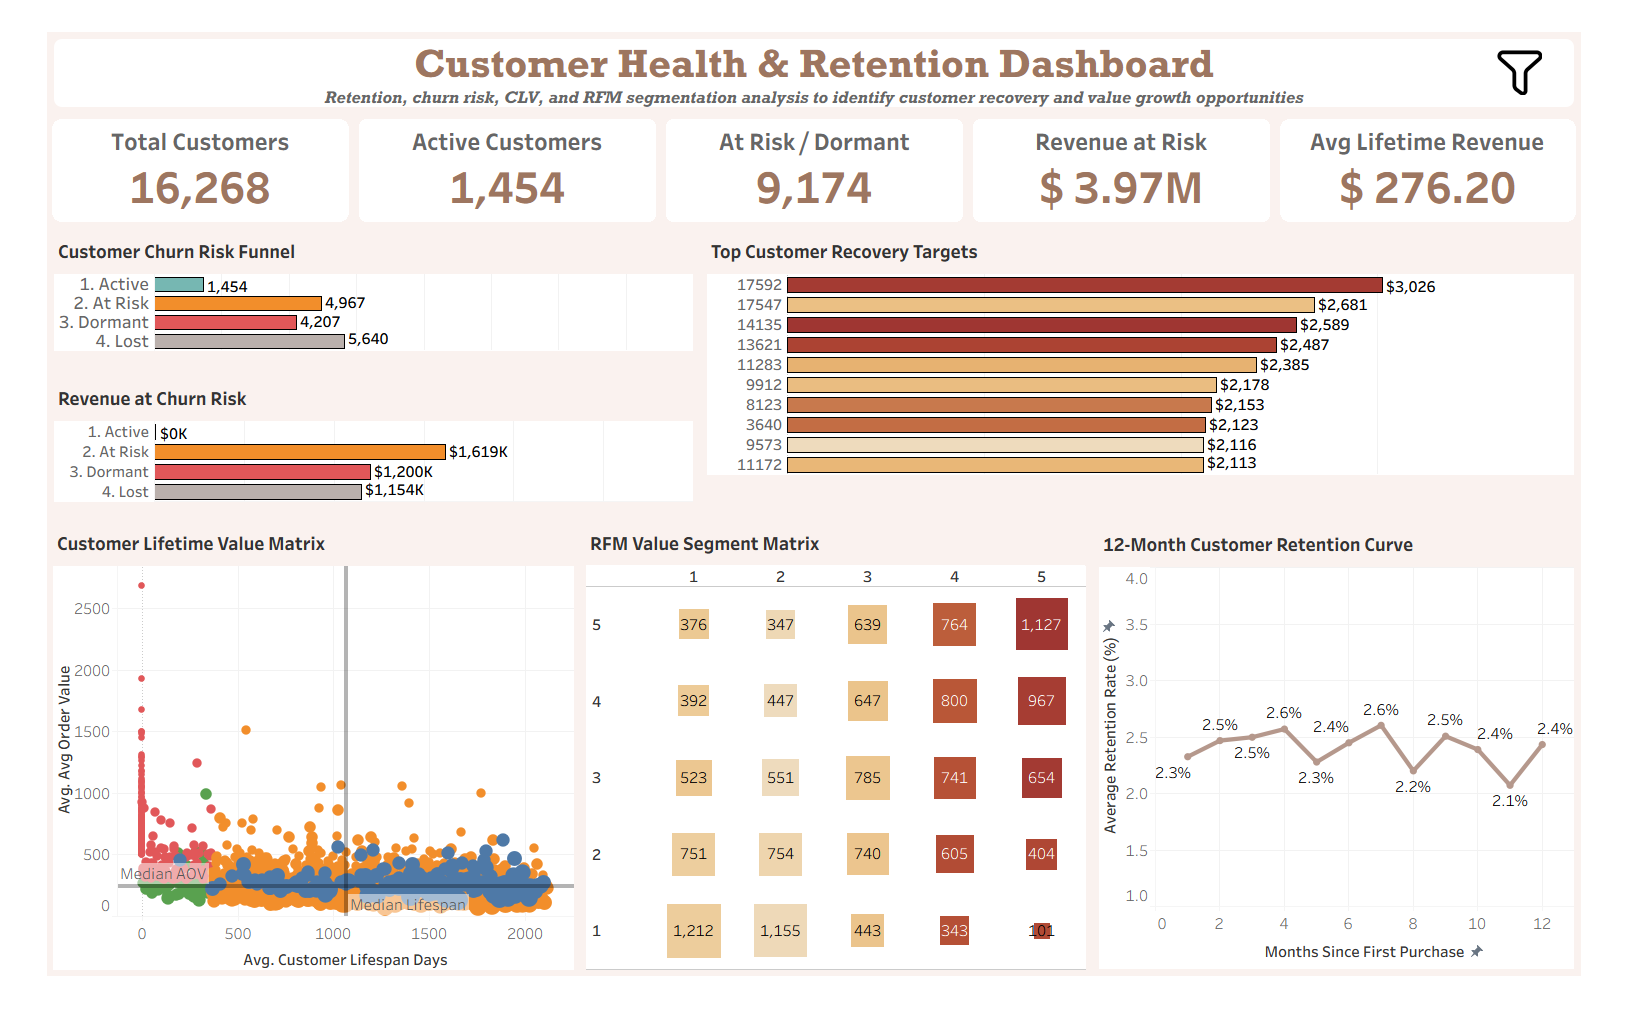

The dashboard page shown, as its layout file describes it:
{"tool":"tableau","page":{"name":"Customer Health & Retention Dashboard","canvas":[1550,960],"ordinal":1},"visuals":[{"type":"text","box":[8,8,1534,82]},{"type":"dashboard-object","box":[1448,26,64,45]},{"type":"worksheet","title":"KPI - Total Customers","mark":"Automatic","box":[8,90,307,113]},{"type":"worksheet","title":"KPI - Active Customers","mark":"Automatic","box":[315,90,307,113]},{"type":"worksheet","title":"KPI - Risk Customers","mark":"Automatic","box":[622,90,307,113]},{"type":"worksheet","title":"KPI - Revenue at Risk","mark":"Automatic","box":[929,90,307,113]},{"type":"worksheet","title":"KPI - Avg Lifetime Revenue","mark":"Automatic","box":[1236,90,306,113]},{"type":"text","box":[1348,94,198,59]},{"type":"blank","box":[1348,153,198,32]},{"type":"parameter","param":"[Parameters].[Parameter 1]","box":[1348,185,198,87]},{"type":"worksheet","title":"Customer Churn Risk Funnel","mark":"Bar","rows":["Calculation_1224312647749662"],"cols":["customer_id"],"box":[8,203,653,147]},{"type":"worksheet","title":"Top Customer Recovery Targets","mark":"Bar","rows":["customer_id"],"cols":["total_spent"],"box":[661,203,881,293]},{"type":"text","box":[1348,272,198,134]},{"type":"worksheet","title":"Revenue at Churn Risk","mark":"Bar","rows":["Calculation_1224312647749662"],"cols":["Calculation_1224312656416800"],"box":[8,350,653,138]},{"type":"blank","box":[1348,406,198,73]},{"type":"parameter","param":"[Parameters].[Parameter 3]","box":[1348,479,198,89]},{"type":"worksheet","title":"Customer Lifetime Value Matrix","mark":"Circle","rows":["avg_order_value"],"cols":["customer_lifespan_days"],"box":[8,496,533,456]},{"type":"worksheet","title":"RFM Value Segment Matrix","mark":"Square","rows":["Calculation_1224312737742887"],"cols":["Calculation_1224312737644582"],"box":[541,496,512,456]},{"type":"worksheet","title":"Customer Retention Curve","mark":"Line","rows":["retention_rate_pct"],"cols":["month_number"],"box":[1053,496,489,456]},{"type":"text","box":[1348,568,198,71]},{"type":"blank","box":[1348,639,198,88]},{"type":"parameter","param":"[Parameters].[Parameter 2]","box":[1348,727,198,85]},{"type":"text","box":[1348,812,198,71]}]}

Visuals, with their boxes in screenshot pixels (x1, y1, x2, y2), scaled from the page's 1550x960 canvas onto the 1633x1011 screenshot:
text: (left=8, top=8, right=1625, bottom=95)
dashboard-object: (left=1526, top=27, right=1593, bottom=75)
"KPI - Total Customers" worksheet: (left=8, top=95, right=332, bottom=214)
"KPI - Active Customers" worksheet: (left=332, top=95, right=655, bottom=214)
"KPI - Risk Customers" worksheet: (left=655, top=95, right=979, bottom=214)
"KPI - Revenue at Risk" worksheet: (left=979, top=95, right=1302, bottom=214)
"KPI - Avg Lifetime Revenue" worksheet: (left=1302, top=95, right=1625, bottom=214)
text: (left=1420, top=99, right=1629, bottom=161)
blank: (left=1420, top=161, right=1629, bottom=195)
parameter: (left=1420, top=195, right=1629, bottom=286)
"Customer Churn Risk Funnel" worksheet (Bar marks): (left=8, top=214, right=696, bottom=369)
"Top Customer Recovery Targets" worksheet (Bar marks): (left=696, top=214, right=1625, bottom=522)
text: (left=1420, top=286, right=1629, bottom=428)
"Revenue at Churn Risk" worksheet (Bar marks): (left=8, top=369, right=696, bottom=514)
blank: (left=1420, top=428, right=1629, bottom=504)
parameter: (left=1420, top=504, right=1629, bottom=598)
"Customer Lifetime Value Matrix" worksheet (Circle marks): (left=8, top=522, right=570, bottom=1003)
"RFM Value Segment Matrix" worksheet (Square marks): (left=570, top=522, right=1109, bottom=1003)
"Customer Retention Curve" worksheet (Line marks): (left=1109, top=522, right=1625, bottom=1003)
text: (left=1420, top=598, right=1629, bottom=673)
blank: (left=1420, top=673, right=1629, bottom=766)
parameter: (left=1420, top=766, right=1629, bottom=855)
text: (left=1420, top=855, right=1629, bottom=930)
